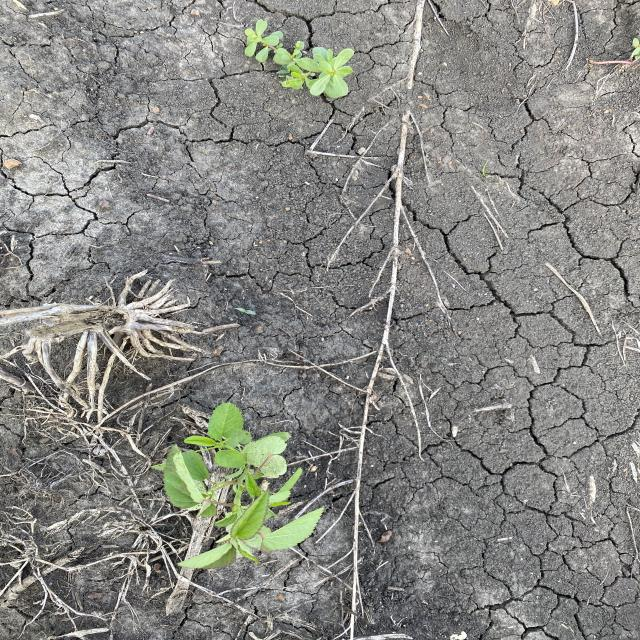PricklySida: (148, 399, 328, 572)
Purslane: (241, 16, 356, 100)
